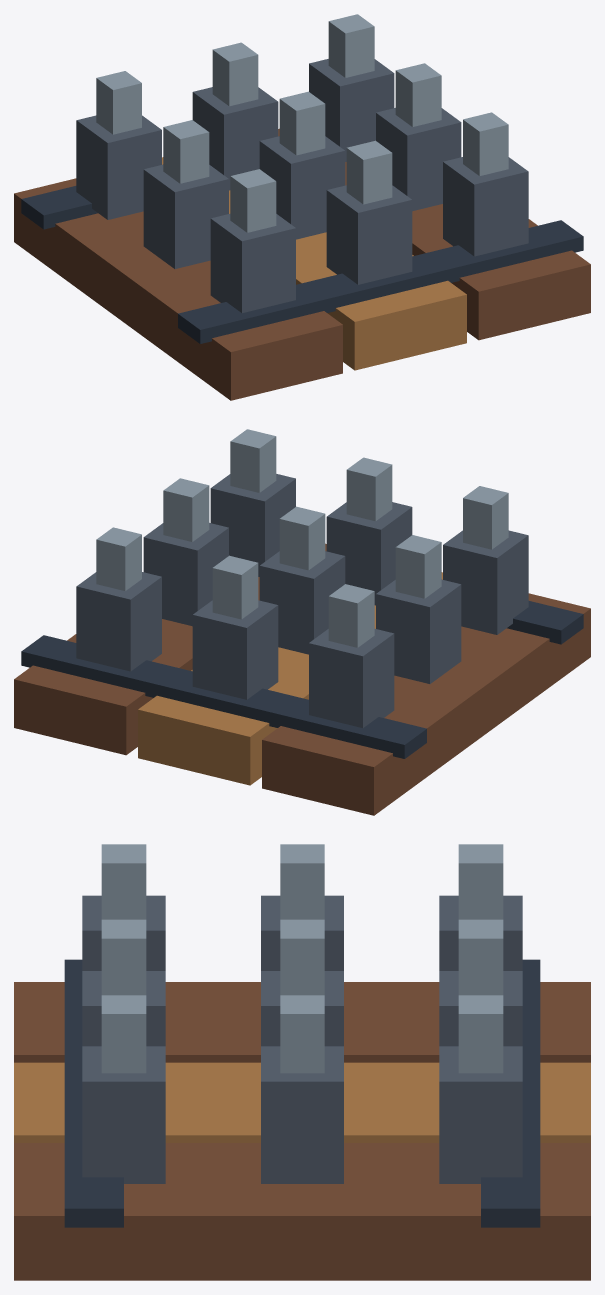
File: floor_spikes.gltf
3 renders of one model, top to bottom at view 1: azimuth 30°, elevation 25°; view 2: azimuth 150°, elevation 25°; view 3: azimuth 270°, elevation 25°, orthographic. The views are drawn at different scales.
Parts seen in each view (by area): view 1: Spikes, Body; view 2: Spikes, Body; view 3: Body, Spikes.
Boxes of the visible parts, bbox=[...] form: Spikes: bbox=[76, 14, 528, 312]; Body: bbox=[14, 128, 590, 400]; Spikes: bbox=[76, 429, 528, 727]; Body: bbox=[14, 543, 590, 815]; Body: bbox=[14, 959, 590, 1280]; Spikes: bbox=[82, 844, 522, 1183].
Size of the model in its own units: 0.99 by 0.435 by 0.97.
